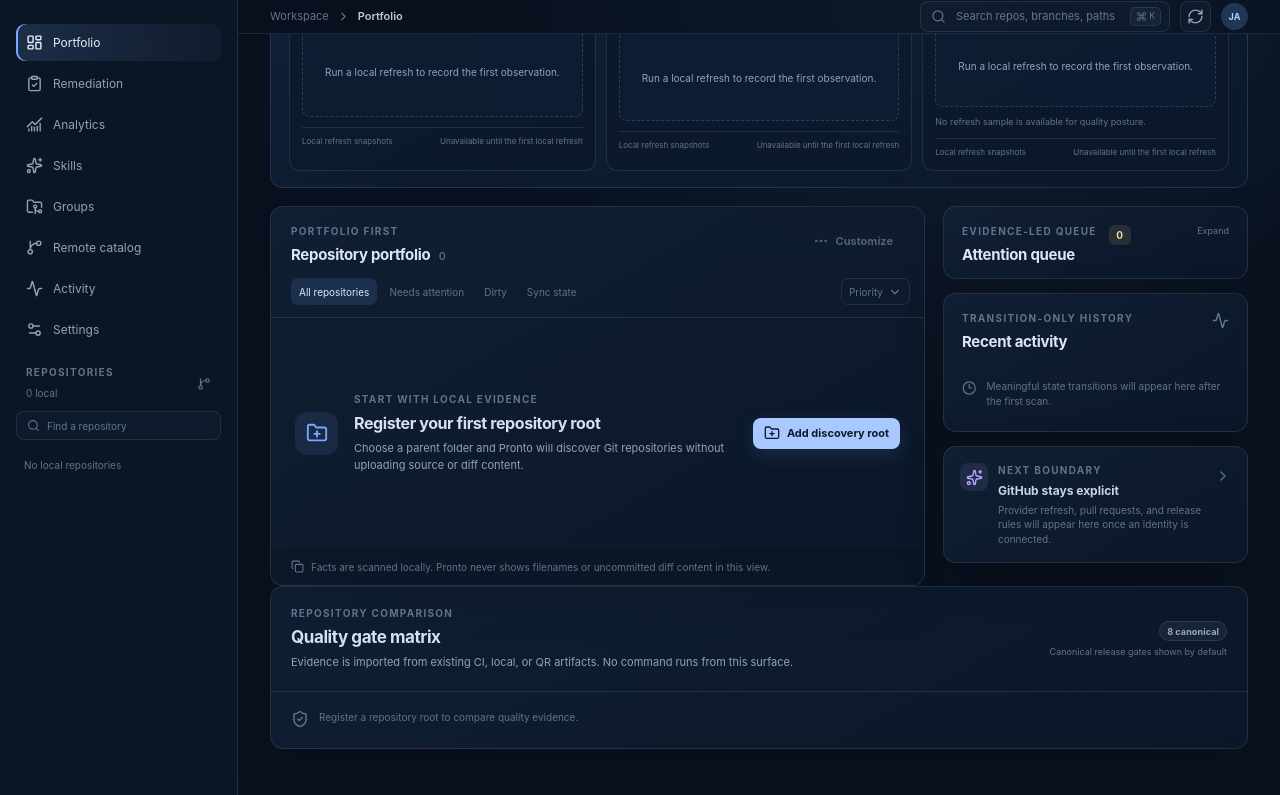
Test: Add root from empty portfolio action › surfaces registration failure without crossing refresh boundaries
(page scrolled)
Click the button "Add discovery root" at (826, 433), box [753, 418, 900, 449]
(page scrolled)
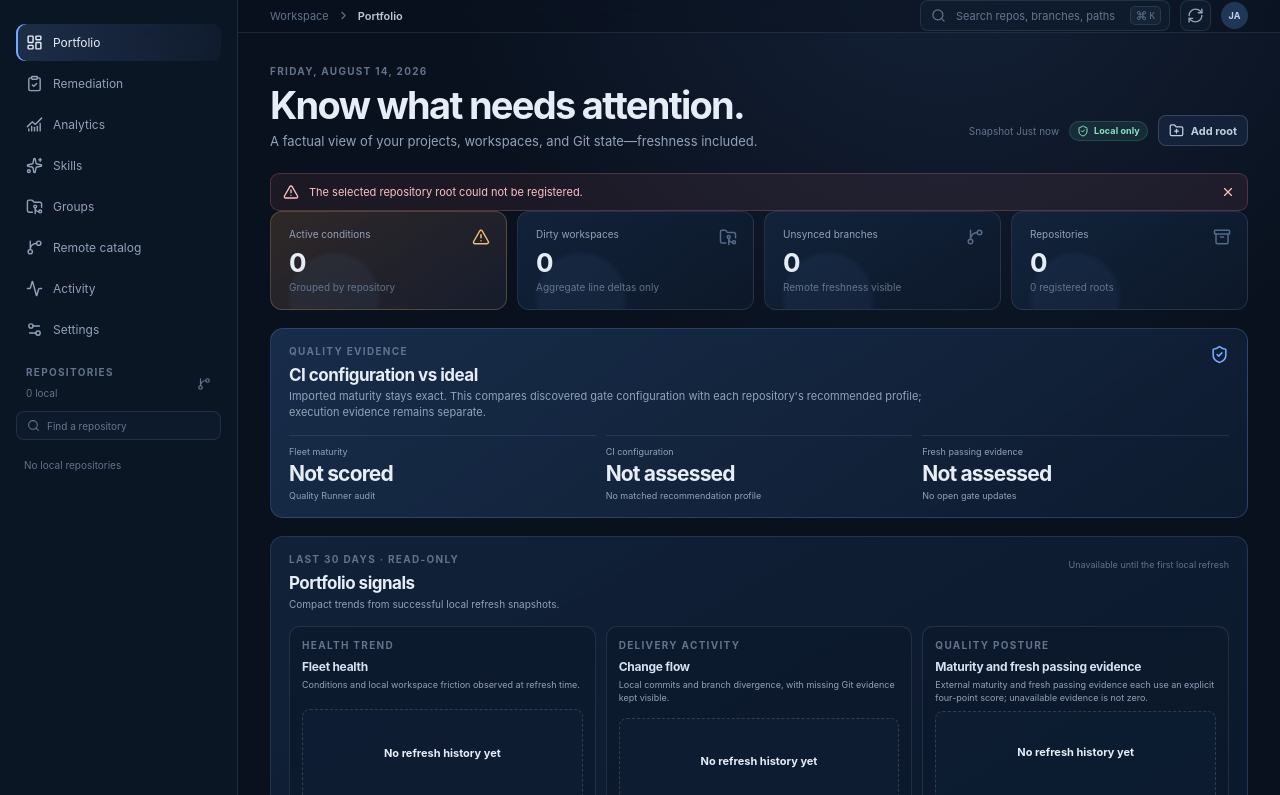
Now the message "The selected repository root could not be registered." is shown, box [270, 173, 1248, 211]
